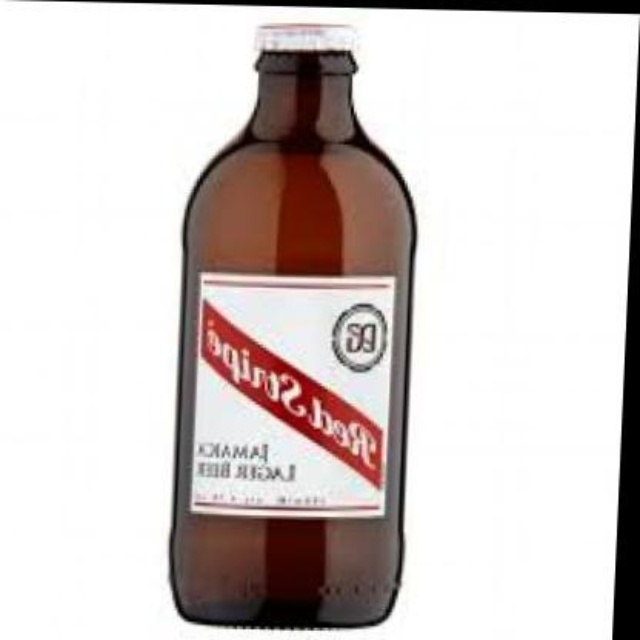trash: (171, 25, 414, 626)
